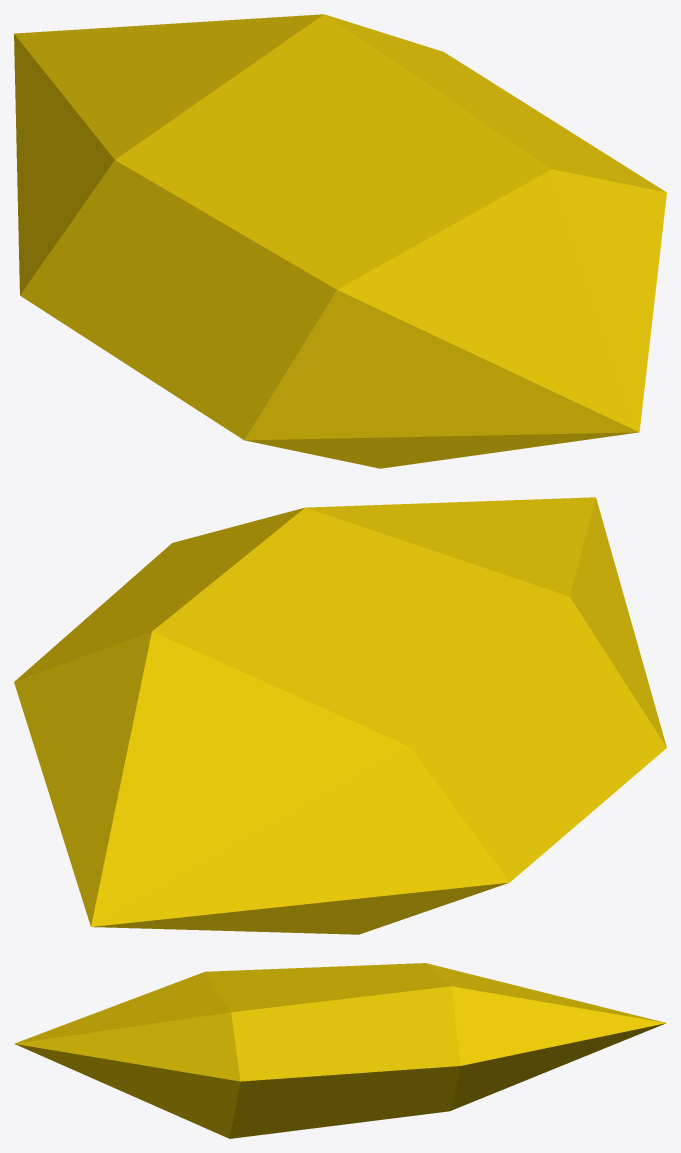
Rendered from gem3.fbx.
3 renders of one model, top to bottom at view 1: azimuth 30°, elevation 25°; view 2: azimuth 150°, elevation 25°; view 3: azimuth 270°, elevation 25°, orthographic. The views are drawn at different scales.
Visible parts, largest first — view 1: gem3; view 2: gem3; view 3: gem3.
Boxes of the visible parts, <box> form: gem3: <box>14,14,666,468</box>; gem3: <box>14,497,666,934</box>; gem3: <box>14,963,666,1138</box>.
Bounding box in the file's own units: 0.3535 × 0.1836 × 0.7018.
